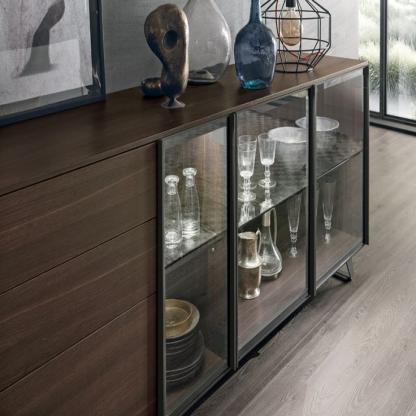Cupboard: (0, 57, 369, 416)
